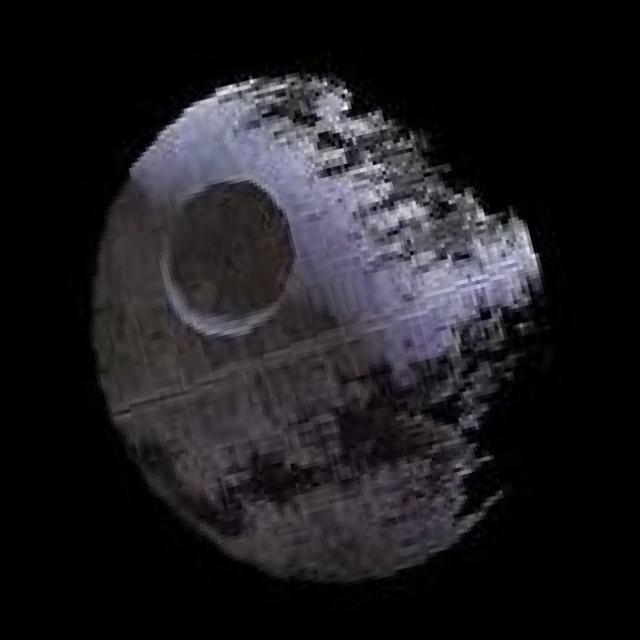Death Star: (24, 7, 613, 640)
